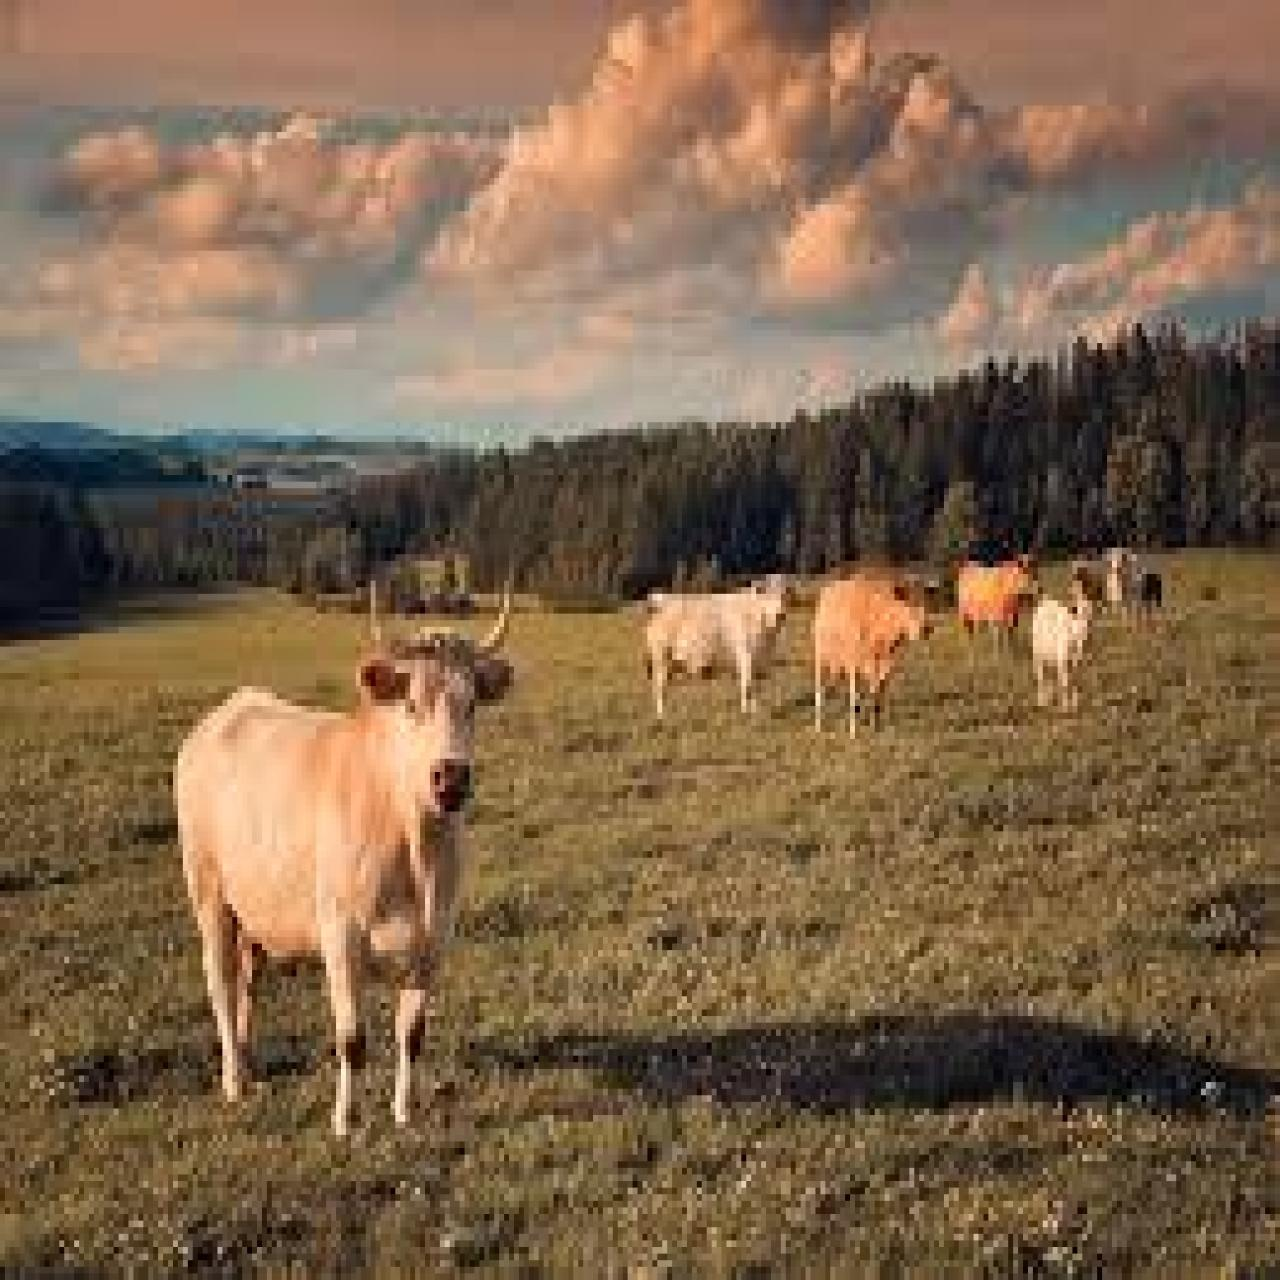cow: (173, 573, 515, 1142), (640, 571, 808, 716), (810, 564, 944, 729), (1026, 574, 1099, 713), (956, 551, 1041, 656), (1099, 538, 1135, 617), (1135, 564, 1169, 617)
